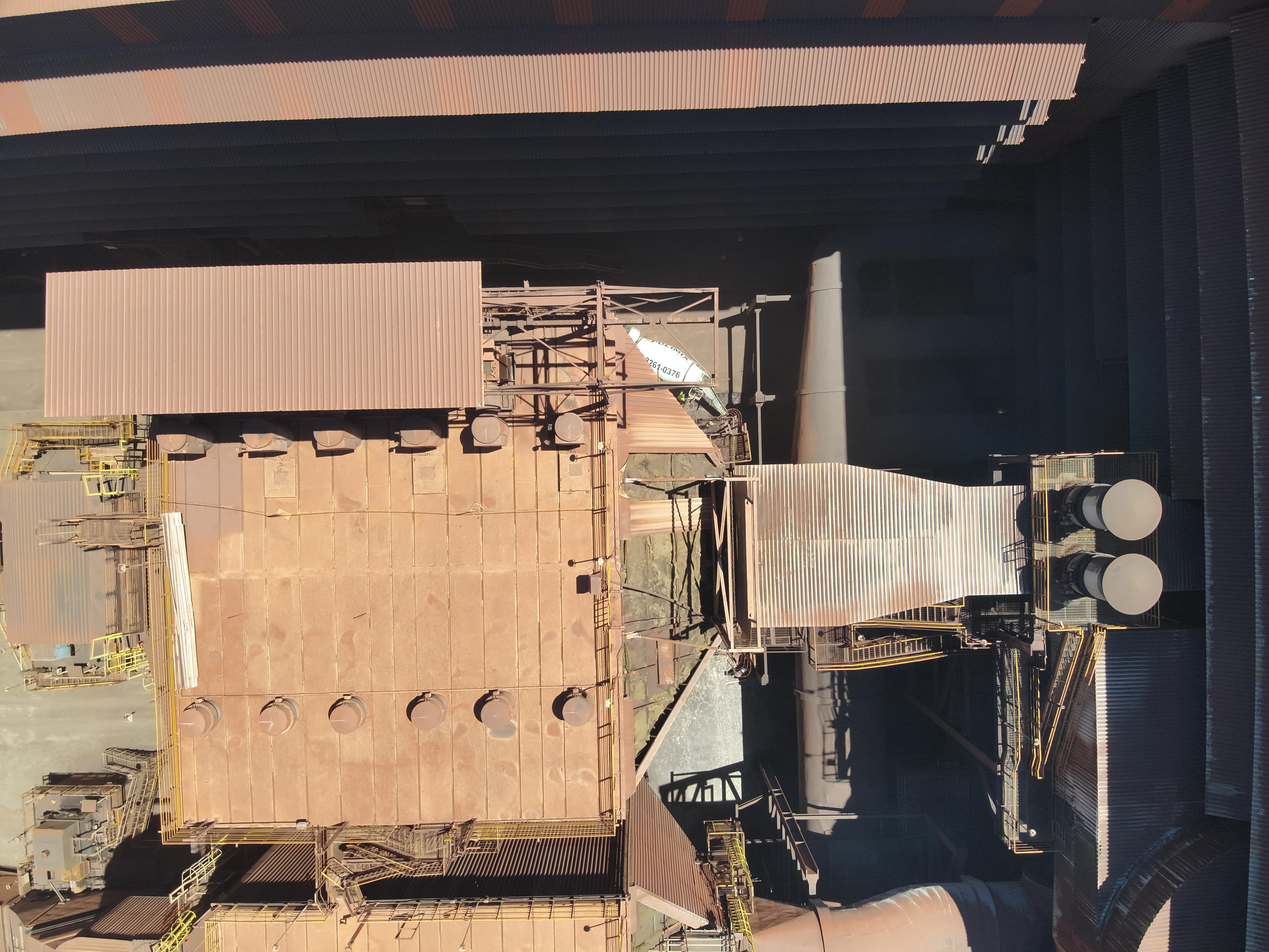Failures: (620, 446, 723, 778), (633, 895, 696, 952)
